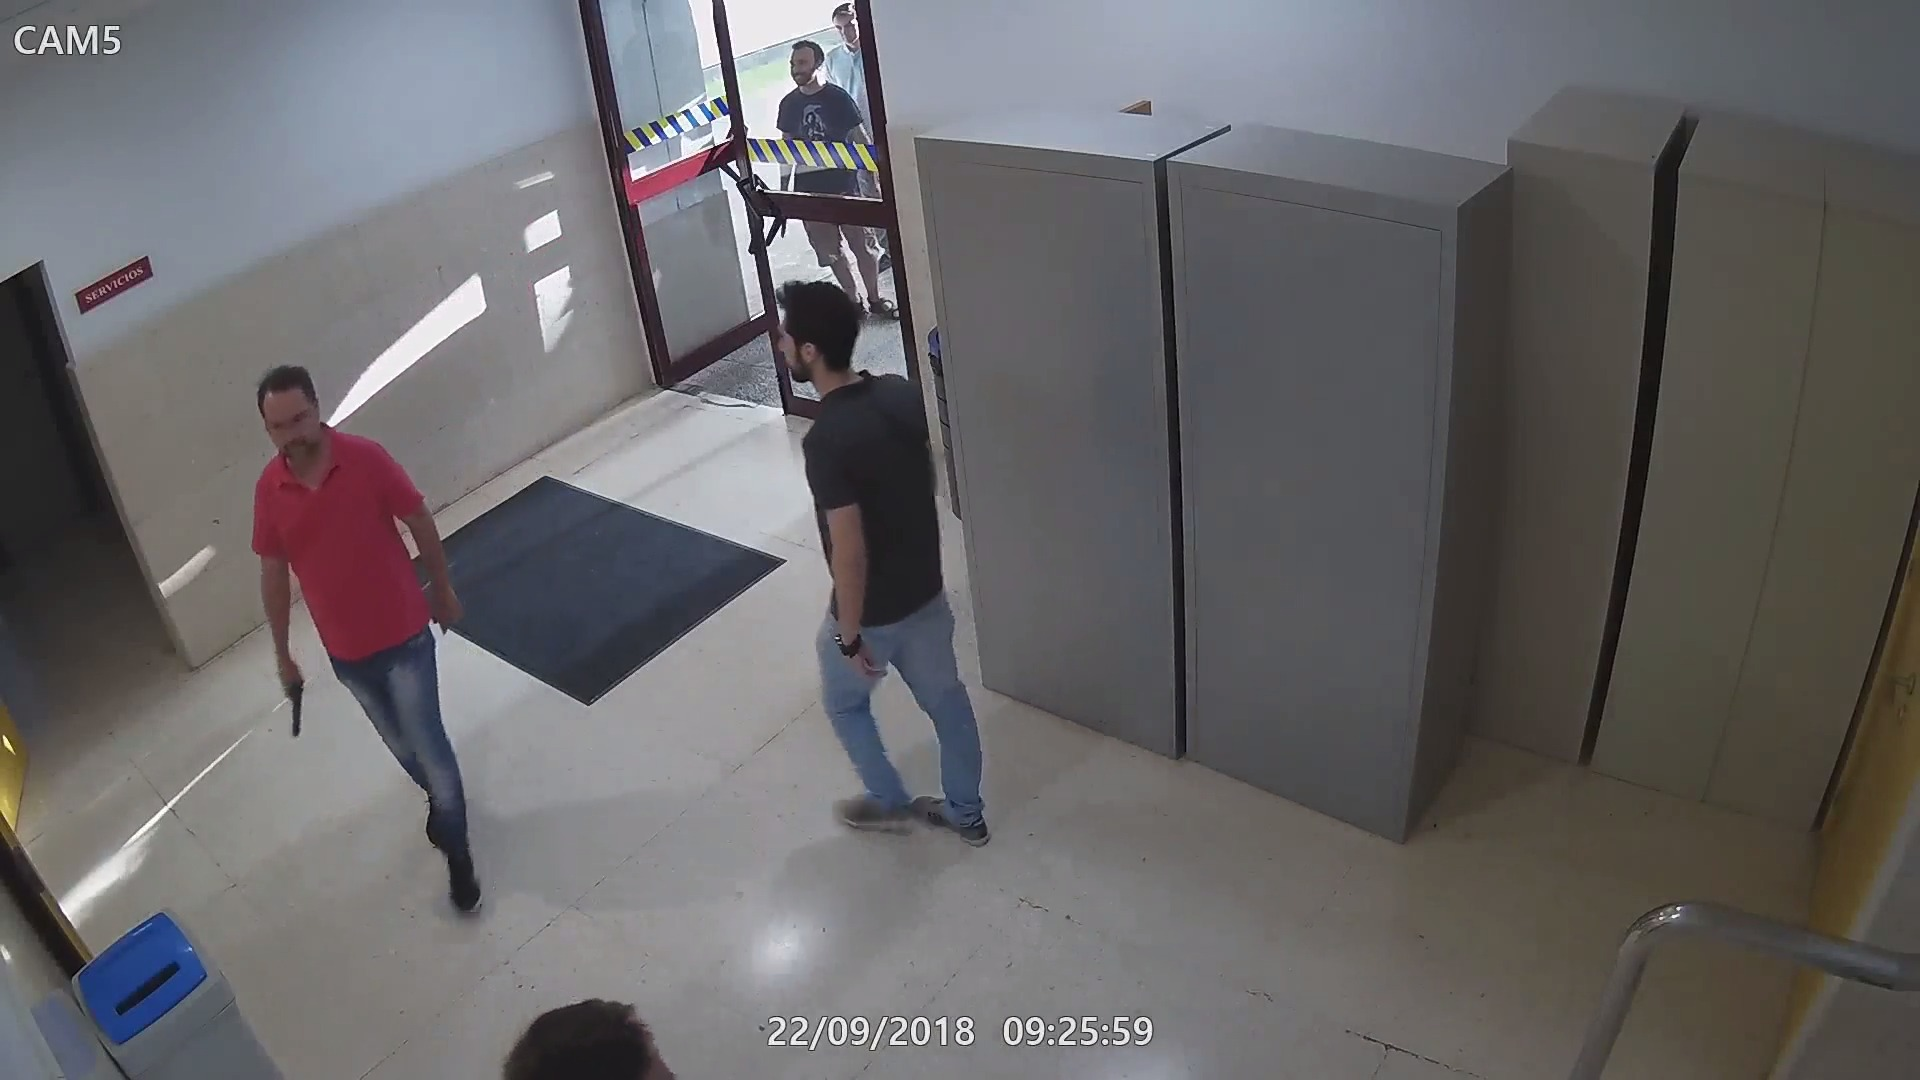Handgun: (276, 654, 309, 741), (775, 215, 793, 240)
